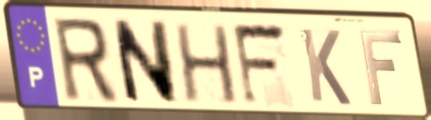F: (230, 21, 291, 110), (356, 28, 405, 108)
H: (172, 23, 242, 107)
K: (297, 25, 354, 108)
N: (109, 18, 180, 107)
R: (50, 16, 122, 107)
